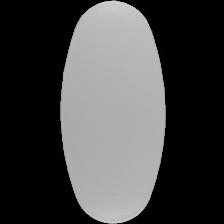35356-687: (0, 0, 224, 224)
